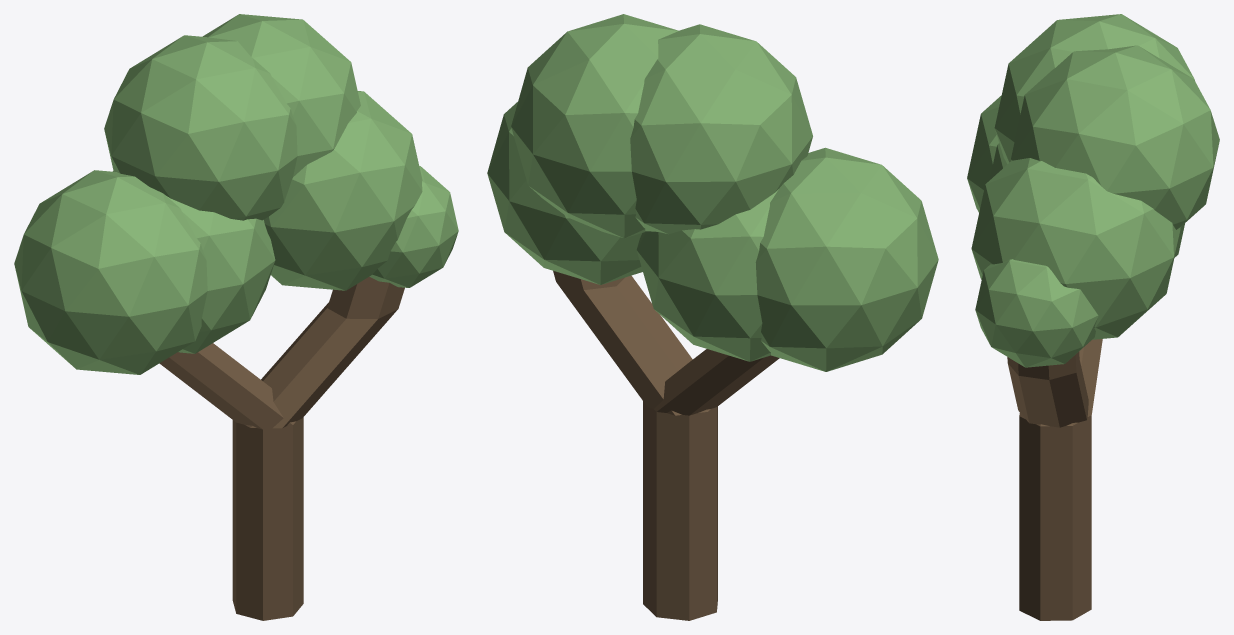
The model's file is Tree_Bush.fbx.
The picture shows the model from 3 angles, left to right: view 1: azimuth 30°, elevation 25°; view 2: azimuth 150°, elevation 25°; view 3: azimuth 270°, elevation 25°; orthographic projection. The views are drawn at different scales.
Visible parts, largest first — view 1: polySurface29; view 2: polySurface29; view 3: polySurface29.
Part boxes in pixels (bbox=[...]): polySurface29: bbox=[14, 14, 458, 620]; polySurface29: bbox=[487, 14, 938, 620]; polySurface29: bbox=[967, 14, 1219, 620].
Size of the model in its own units: 187 by 244 by 98.82.
